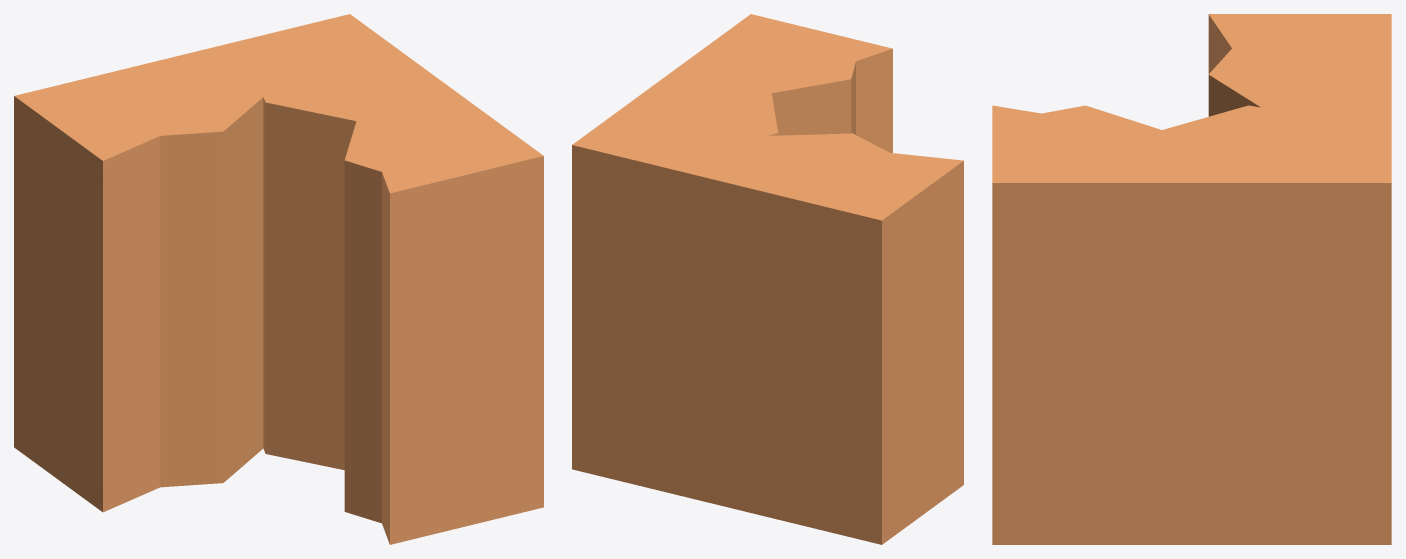
The model's file is cliffBrown_cornerInnerMid.fbx.
3 renders of one model, left to right at view 1: azimuth 30°, elevation 25°; view 2: azimuth 150°, elevation 25°; view 3: azimuth 270°, elevation 25°, orthographic. The views are drawn at different scales.
Visible parts, largest first — view 1: cliffBrown_cornerInnerMid; view 2: cliffBrown_cornerInnerMid; view 3: cliffBrown_cornerInnerMid.
Boxes of the visible parts, x1,y1,x2,y2 form: cliffBrown_cornerInnerMid: (14, 14, 543, 544); cliffBrown_cornerInnerMid: (572, 14, 963, 544); cliffBrown_cornerInnerMid: (992, 14, 1391, 544).
Bounding box in the file's own units: 10 × 10 × 10.
